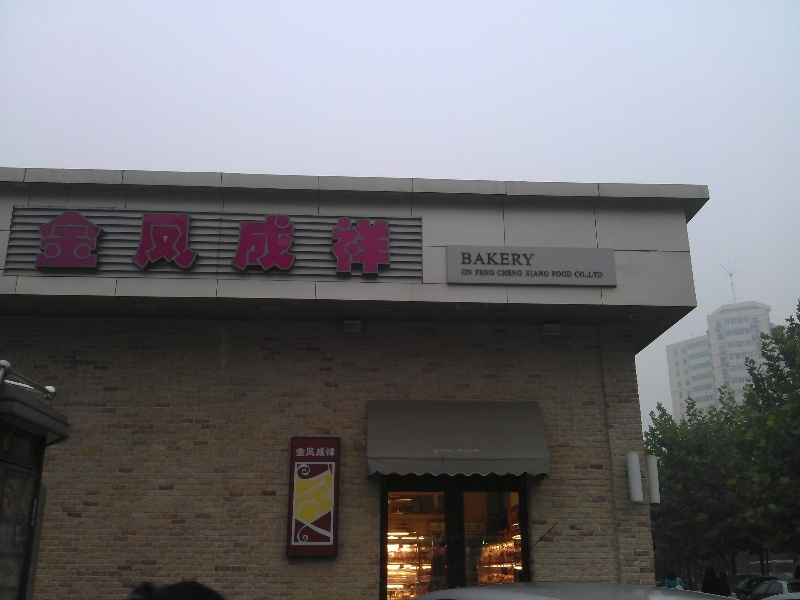text: (49, 208, 64, 276), (65, 208, 80, 276), (81, 208, 96, 276), (97, 208, 112, 276), (113, 208, 128, 276), (129, 208, 144, 276), (145, 208, 160, 276), (161, 208, 176, 276), (177, 208, 192, 276), (193, 208, 208, 276), (209, 208, 224, 276), (225, 208, 240, 276), (241, 208, 256, 276), (257, 208, 272, 276), (273, 208, 288, 276), (289, 208, 304, 276), (305, 208, 320, 276), (321, 208, 336, 276), (337, 208, 352, 276), (353, 208, 368, 276), (369, 208, 384, 276), (40, 208, 48, 276), (385, 208, 393, 276), (465, 252, 480, 267), (481, 252, 496, 267), (497, 252, 512, 267), (513, 252, 528, 267), (321, 446, 337, 458), (305, 446, 320, 458), (577, 271, 592, 279), (481, 269, 495, 277), (295, 446, 304, 458), (497, 270, 512, 277), (529, 270, 544, 277), (434, 448, 448, 455), (465, 448, 481, 454), (529, 252, 535, 267), (561, 271, 573, 278), (593, 271, 603, 279), (513, 270, 523, 277), (465, 269, 473, 276), (552, 271, 560, 278), (449, 448, 456, 455), (461, 252, 464, 267), (475, 269, 480, 277), (458, 448, 464, 454), (545, 270, 549, 277), (462, 269, 464, 276), (526, 270, 528, 277), (575, 271, 576, 279)
